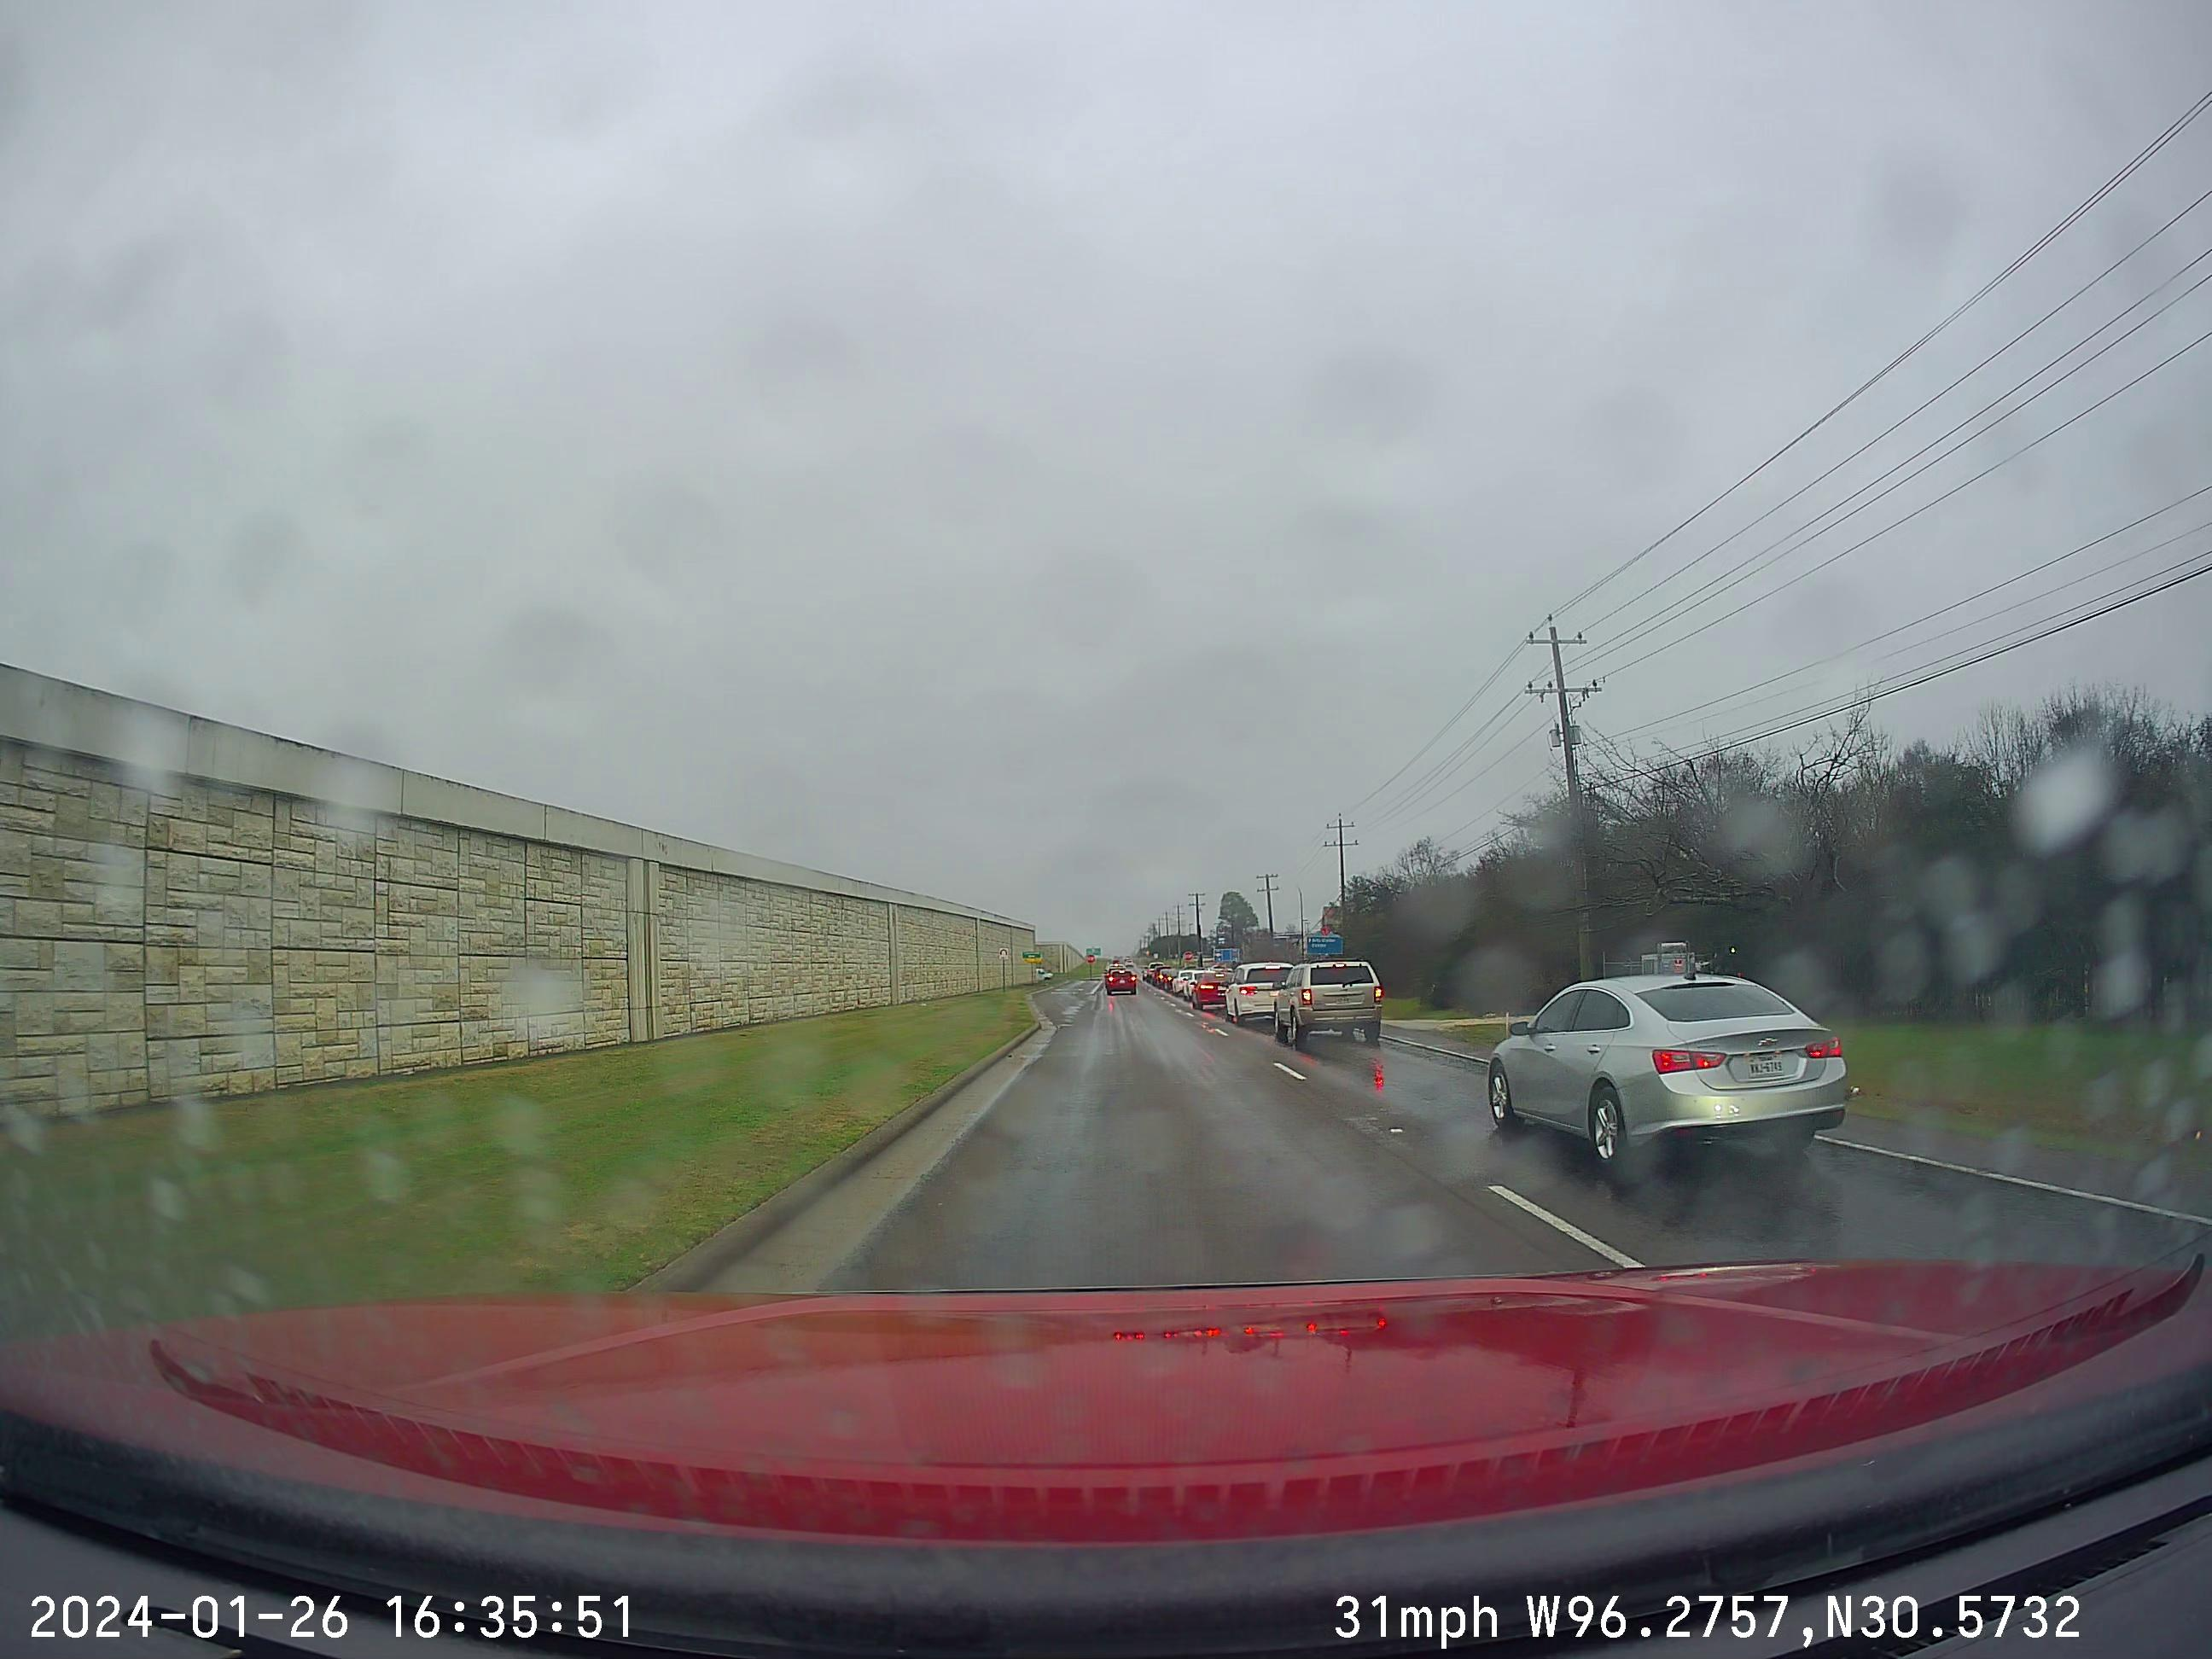car: (1487, 976, 1848, 1180)
truck: (1273, 960, 1381, 1046)
